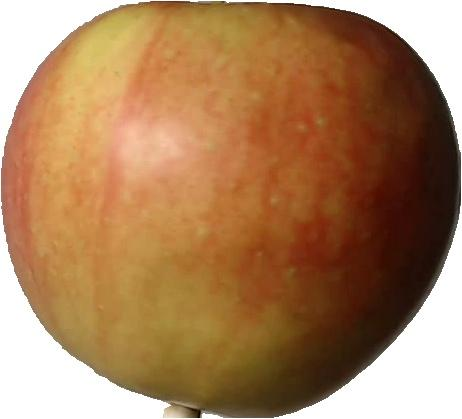Apple Ripe: (0, 3, 462, 419)
